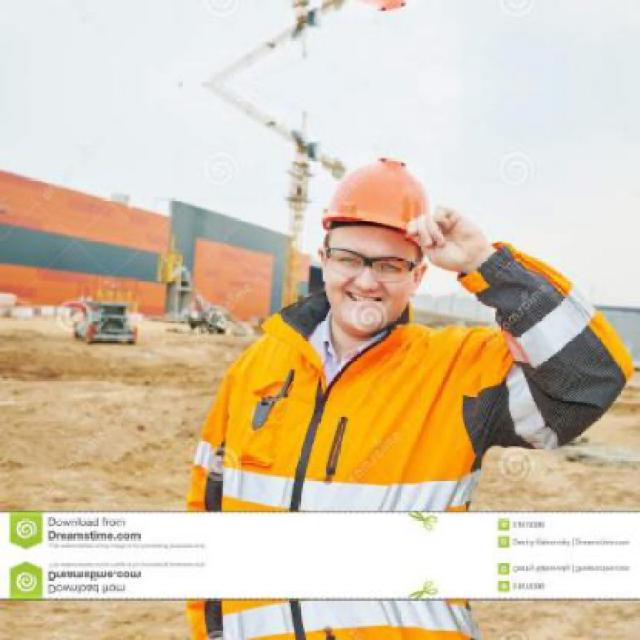Reflective-Jacket: (185, 291, 593, 509)
Safety-Helmet: (302, 148, 443, 260)
